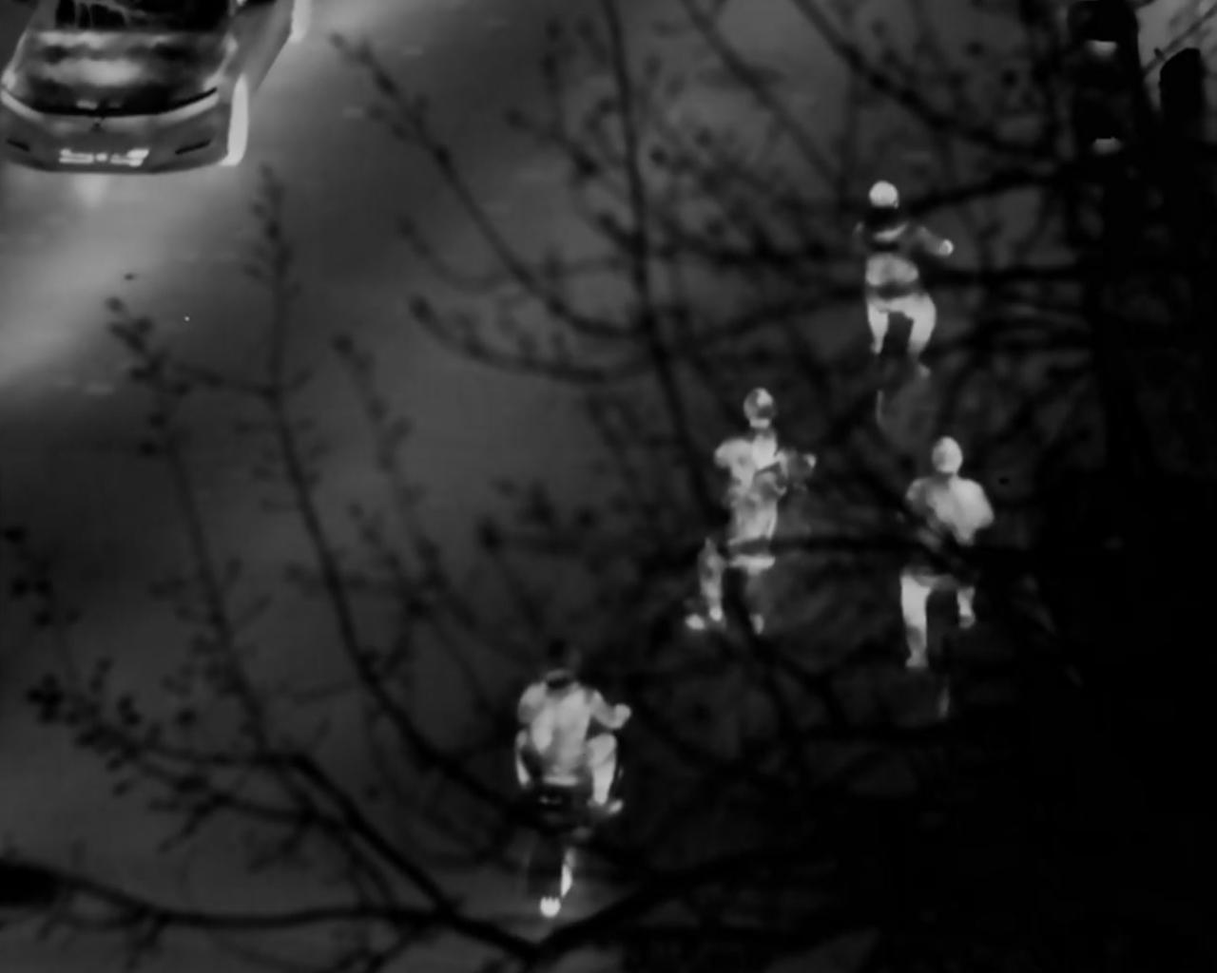person: (511, 635, 649, 856), (890, 443, 1001, 666), (710, 387, 808, 626), (853, 183, 955, 372)
